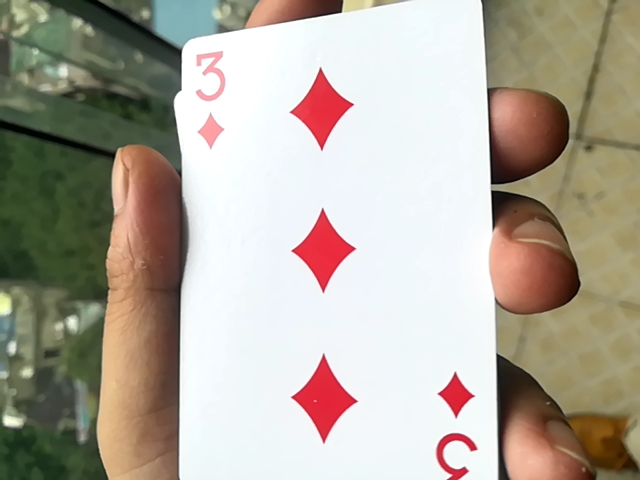fk 3: (153, 2, 509, 477)
